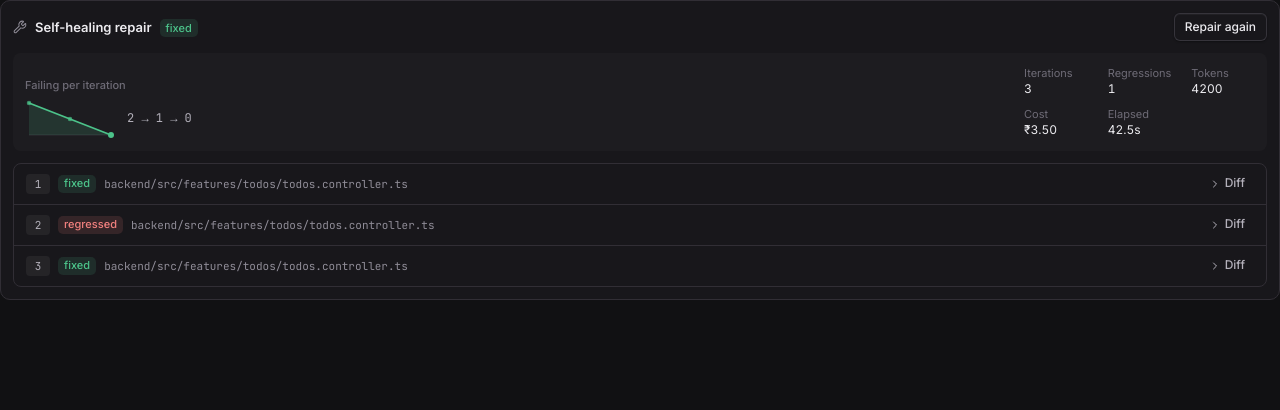
Test: RepairView › lists each attempt with its verdict and loads its diff on demand
This screenshot has width=1280, height=410.
Expected: the number of list items with test id "repair-attempt" is 3, [14, 164, 1266, 204]; [14, 204, 1266, 245]; [14, 245, 1266, 286]
Expected: the text "regressed" is shown, [58, 216, 123, 234]
Click the button with test id "toggle-diff-1" at (1227, 184), box [1200, 172, 1254, 196]
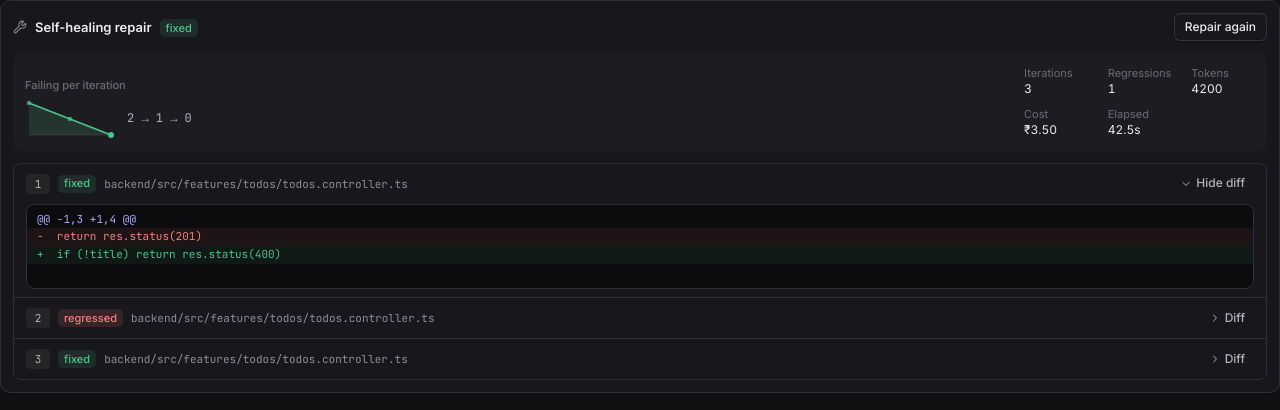
Result: the element with test id "attempt-diff" is shown at [26, 204, 1254, 289]
Result: the element with test id "attempt-diff" shows "if (!title) return res.status(400)" at [37, 247, 281, 261]
